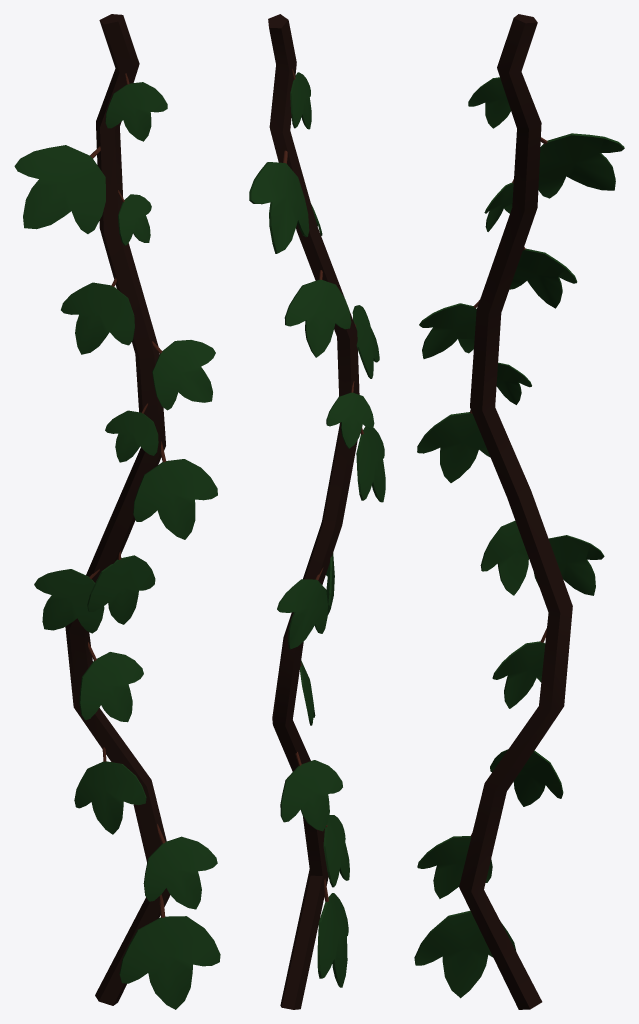
File: vinespolySurface169.fbx
3 renders of one model, left to right at view 1: azimuth 90°, elevation 25°; view 2: azimuth 150°, elevation 25°; view 3: azimuth 270°, elevation 25°, orthographic.
Visible parts, largest first — view 1: polySurface169; view 2: polySurface169; view 3: polySurface169.
Part boxes in pixels (box(x1,y1,x2,y2)): polySurface169: box(14, 14, 220, 1009); polySurface169: box(249, 14, 385, 1009); polySurface169: box(414, 14, 624, 1009).
Bounding box in the file's own units: 0.1962 × 2.2 × 0.4197.
